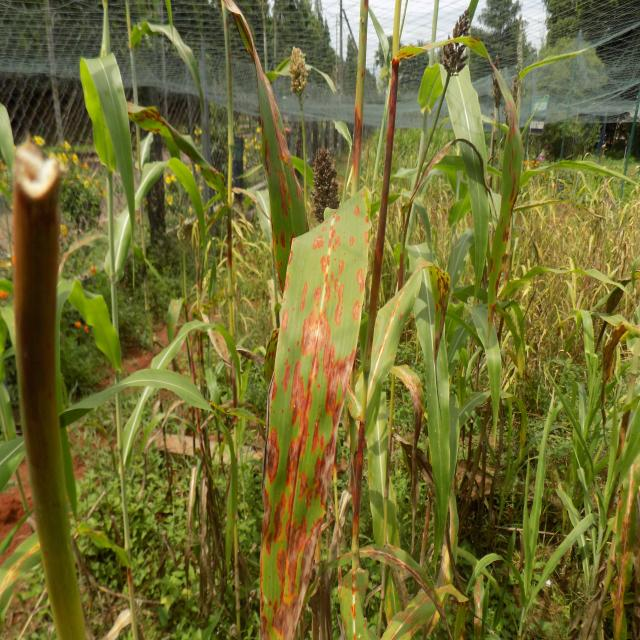millet_healthy: (122, 318, 232, 484), (410, 238, 452, 560), (82, 50, 140, 225), (445, 66, 488, 295), (58, 368, 210, 427), (56, 278, 119, 358), (467, 296, 503, 422)
millet_rust: (259, 228, 366, 640), (230, 2, 310, 290), (372, 265, 421, 494), (487, 51, 524, 306), (338, 548, 368, 640), (384, 588, 437, 640)
